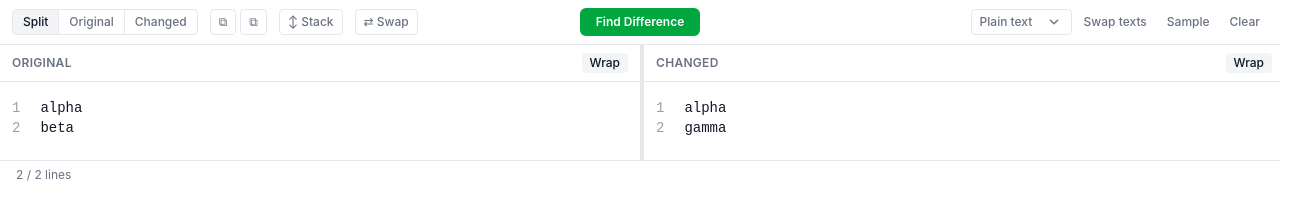
Test: DiffChecker › adds a third, uncolored Source pane when toggled on, absent in edit mode
Click the button "Find Difference" at [640, 22], box [580, 8, 700, 36]
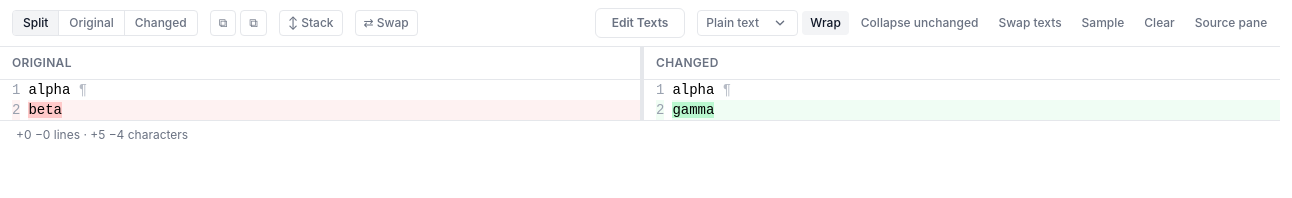
Click the button "Source pane" at [1231, 23], box [1187, 11, 1275, 35]
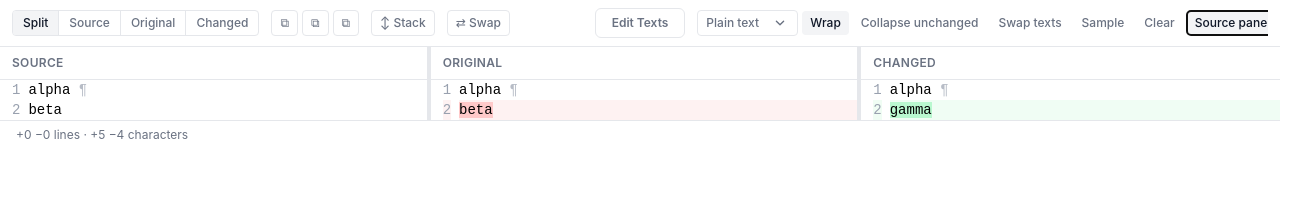
Expected: the element showing "1 2 alpha ¶ beta" is shown, [0, 80, 427, 120]
